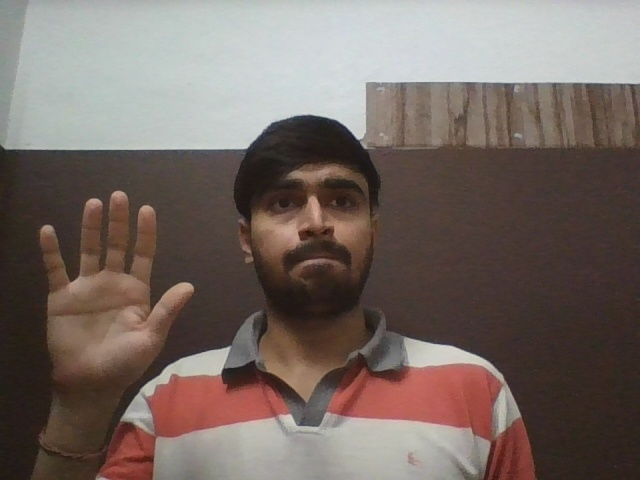Hello: (38, 189, 195, 390)
